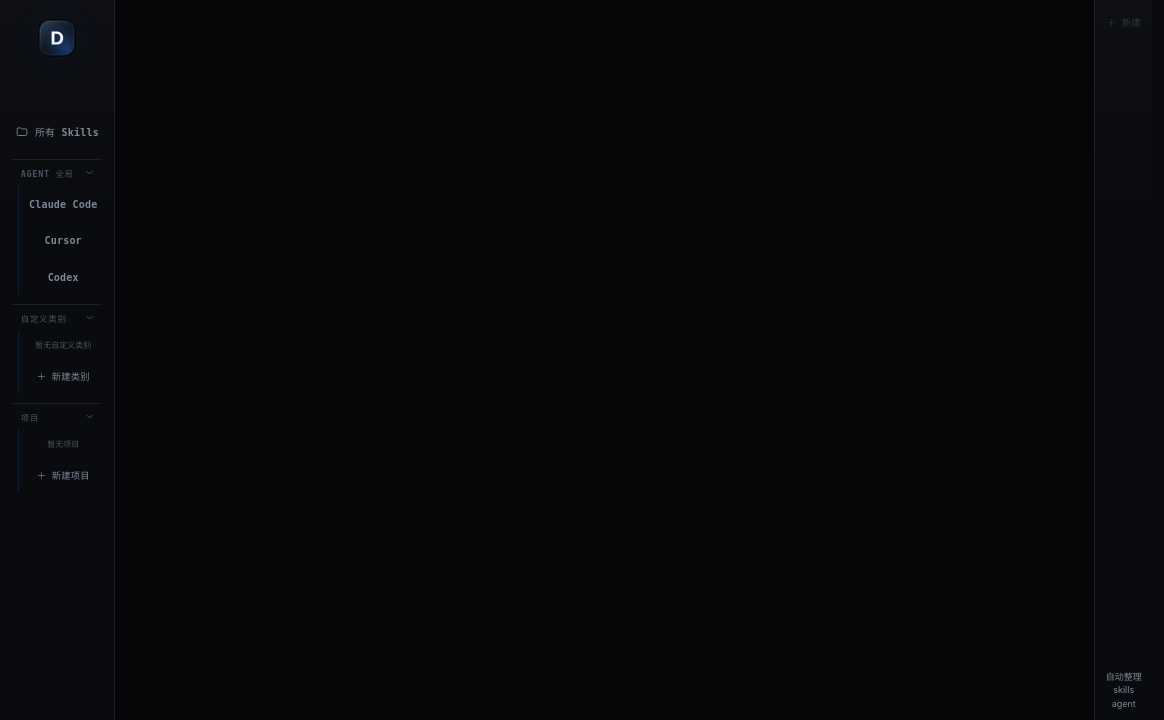
left category groups › independently expands and collapses Agent, custom, and project categories
This screenshot has width=1164, height=720.
expect the button with aria-label "Claude Code Skills" is shown: met, box [24,188,102,220]
expect the text "暂无自定义类别" is shown: met, box [35,341,91,350]
Click the button "Agent 全局" at x=57, y=172, box [12,159,102,186]
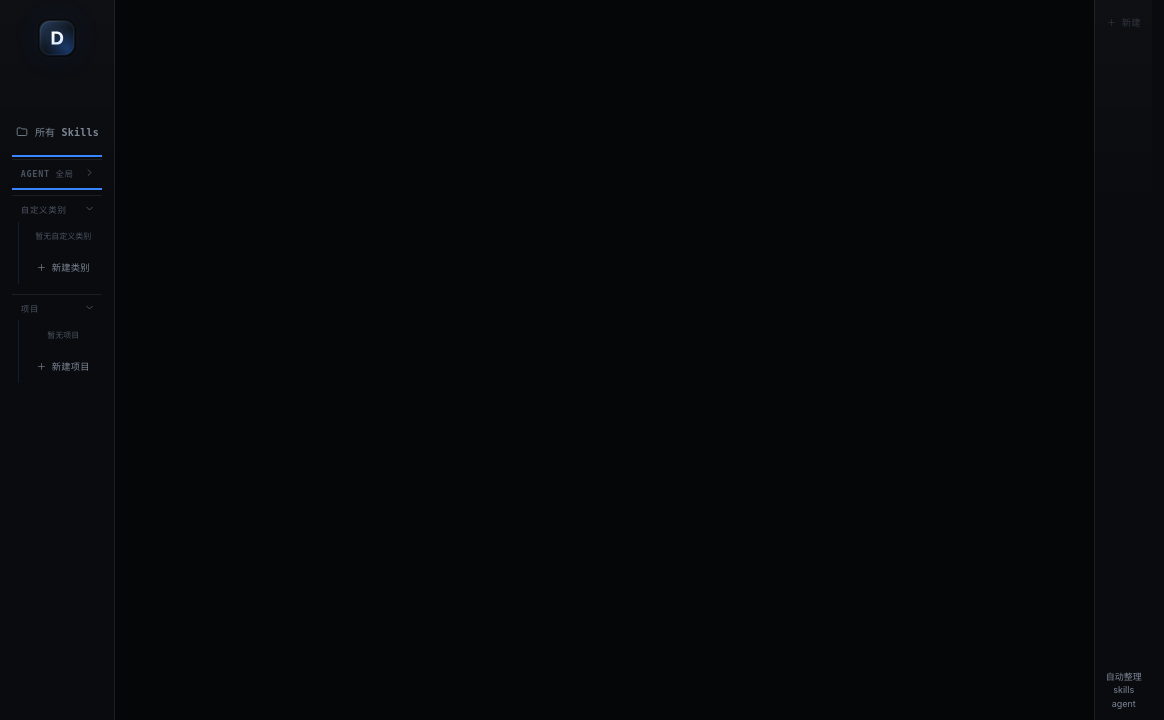
Click the button "自定义类别" at x=57, y=208, box [12,195,102,222]
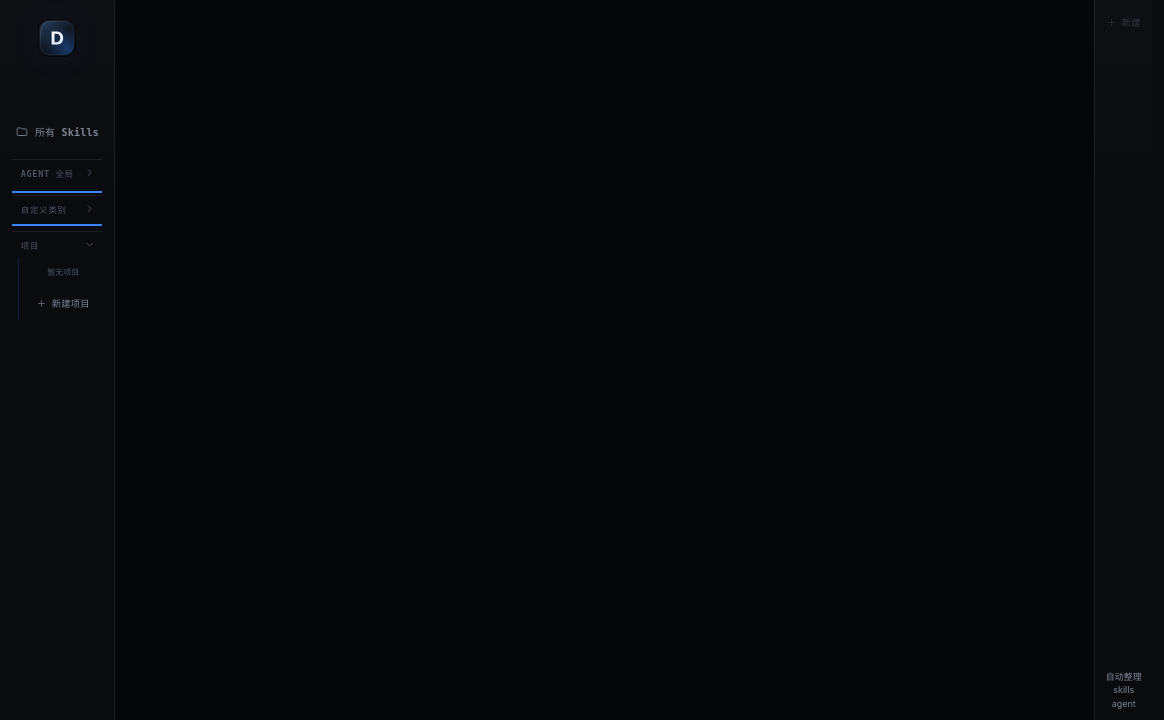
Click the button "项目" at x=57, y=244, box [12,231,102,258]
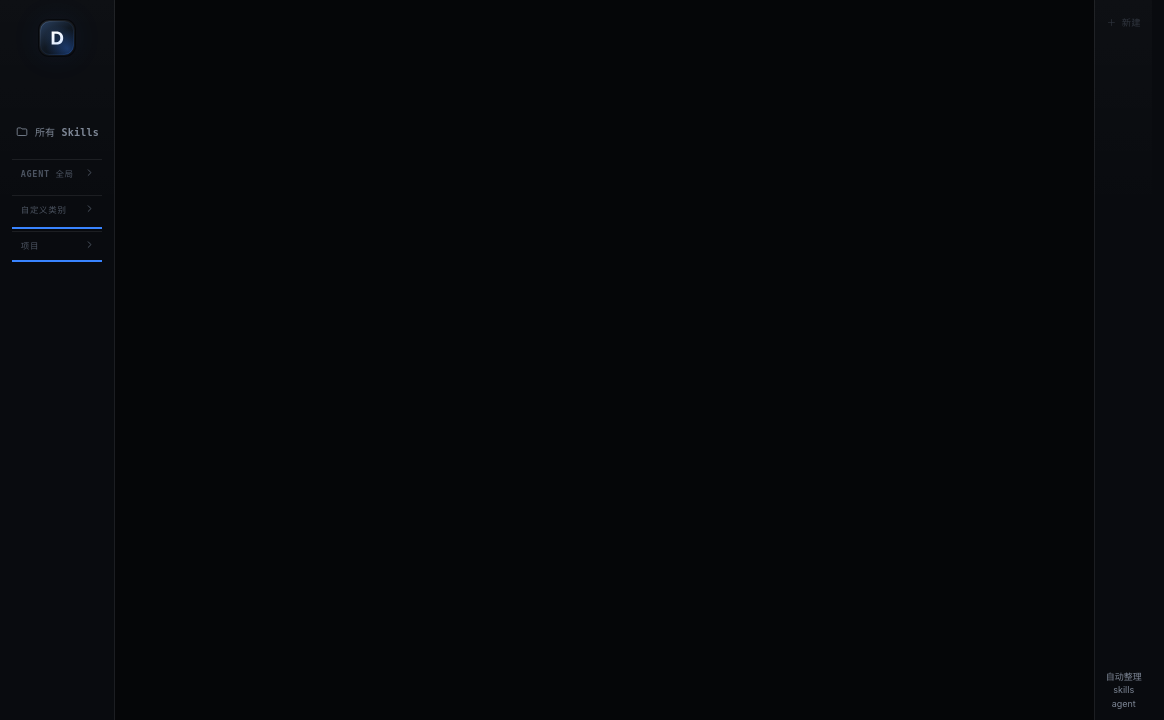
expect the text "暂无自定义类别" is not shown: met
expect the text "暂无项目" is gone: met
